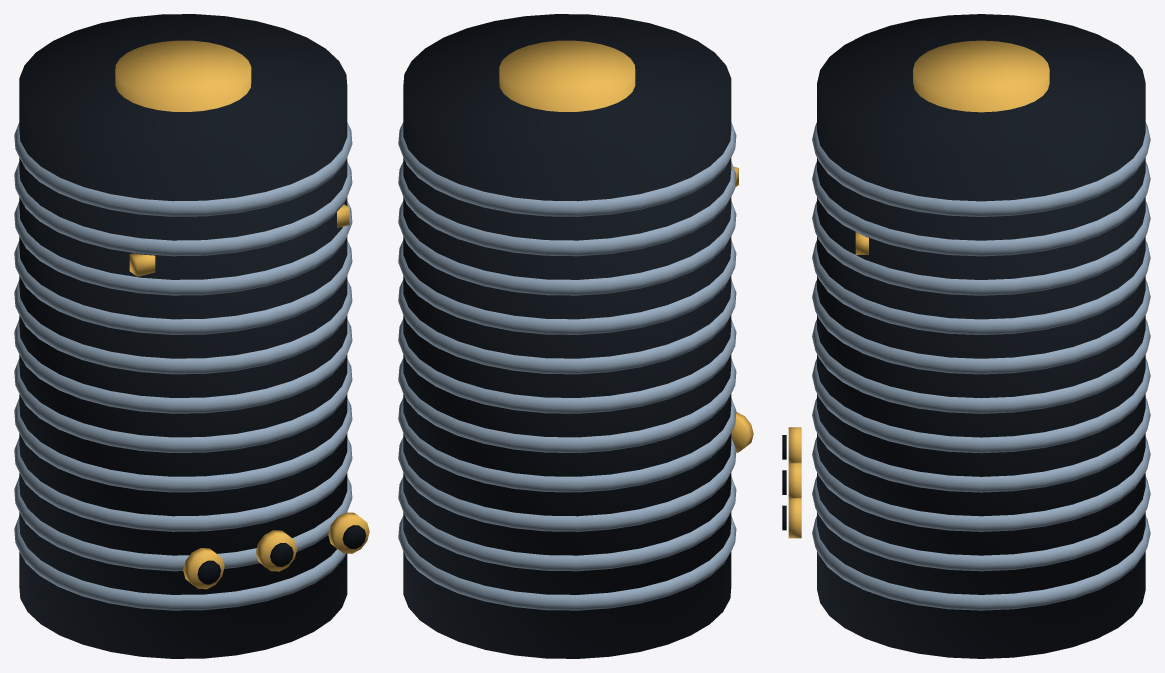
File: 56_L93_VacuumTurbomolecularPump.fbx
3 views of the same model, side by side, from view 1: azimuth 30°, elevation 25°; view 2: azimuth 150°, elevation 25°; view 3: azimuth 270°, elevation 25° (orthographic).
Parts seen in each view (by area): view 1: L92_VacuumTurbomolecularPump_Part_0000, L92_VacuumTurbomolecularPump_Part_0001, L92_VacuumTurbomolecularPump_Part_0002, L92_VacuumTurbomolecularPump_Part_0008, L92_VacuumTurbomolecularPump_Part_0006, L92_VacuumTurbomolecularPump_Part_0004, L92_VacuumTurbomolecularPump_Part_0003; view 2: L92_VacuumTurbomolecularPump_Part_0000, L92_VacuumTurbomolecularPump_Part_0001, L92_VacuumTurbomolecularPump_Part_0002, L92_VacuumTurbomolecularPump_Part_0004; view 3: L92_VacuumTurbomolecularPump_Part_0000, L92_VacuumTurbomolecularPump_Part_0001, L92_VacuumTurbomolecularPump_Part_0002, L92_VacuumTurbomolecularPump_Part_0008.
Boxes of the visible parts, x1=… form: L92_VacuumTurbomolecularPump_Part_0000: x1=19, y1=14, x2=347, y2=658; L92_VacuumTurbomolecularPump_Part_0001: x1=14, y1=122, x2=352, y2=610; L92_VacuumTurbomolecularPump_Part_0002: x1=115, y1=40, x2=251, y2=111; L92_VacuumTurbomolecularPump_Part_0008: x1=328, y1=512, x2=369, y2=553; L92_VacuumTurbomolecularPump_Part_0006: x1=255, y1=530, x2=296, y2=571; L92_VacuumTurbomolecularPump_Part_0004: x1=183, y1=548, x2=224, y2=589; L92_VacuumTurbomolecularPump_Part_0003: x1=129, y1=204, x2=349, y2=276; L92_VacuumTurbomolecularPump_Part_0000: x1=403, y1=14, x2=731, y2=658; L92_VacuumTurbomolecularPump_Part_0001: x1=398, y1=122, x2=736, y2=610; L92_VacuumTurbomolecularPump_Part_0002: x1=499, y1=40, x2=635, y2=111; L92_VacuumTurbomolecularPump_Part_0004: x1=731, y1=412, x2=753, y2=452; L92_VacuumTurbomolecularPump_Part_0000: x1=817, y1=14, x2=1145, y2=658; L92_VacuumTurbomolecularPump_Part_0001: x1=812, y1=122, x2=1150, y2=610; L92_VacuumTurbomolecularPump_Part_0002: x1=913, y1=40, x2=1049, y2=112; L92_VacuumTurbomolecularPump_Part_0008: x1=788, y1=498, x2=801, y2=538.
Size of the model in its own units: 109 by 185 by 119.
